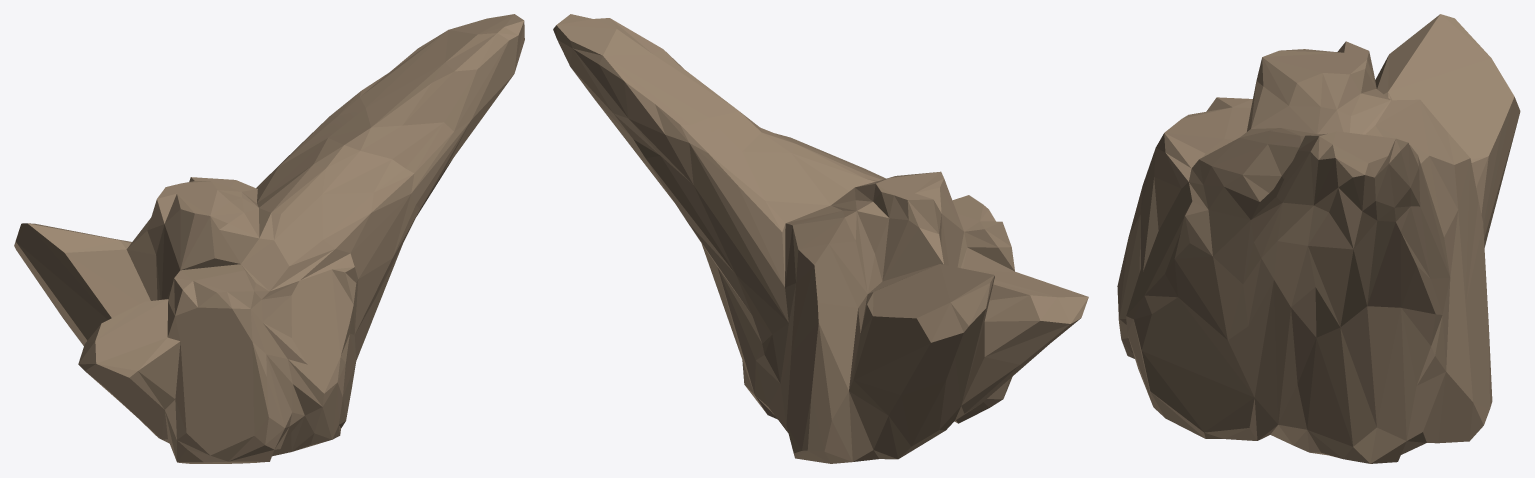
File: SM_Env_Rock_Spikes_03.fbx
3 views of the same model, side by side, from view 1: azimuth 30°, elevation 25°; view 2: azimuth 150°, elevation 25°; view 3: azimuth 270°, elevation 25° (orthographic). The views are drawn at different scales.
Parts seen in each view (by area): view 1: SM_Env_Rock_Spikes_03; view 2: SM_Env_Rock_Spikes_03; view 3: SM_Env_Rock_Spikes_03.
Boxes of the visible parts, bbox=[...] form: SM_Env_Rock_Spikes_03: bbox=[14, 14, 524, 463]; SM_Env_Rock_Spikes_03: bbox=[553, 14, 1088, 463]; SM_Env_Rock_Spikes_03: bbox=[1117, 14, 1520, 463].
Bounding box in the file's own units: 2616 × 1812 × 1386.
